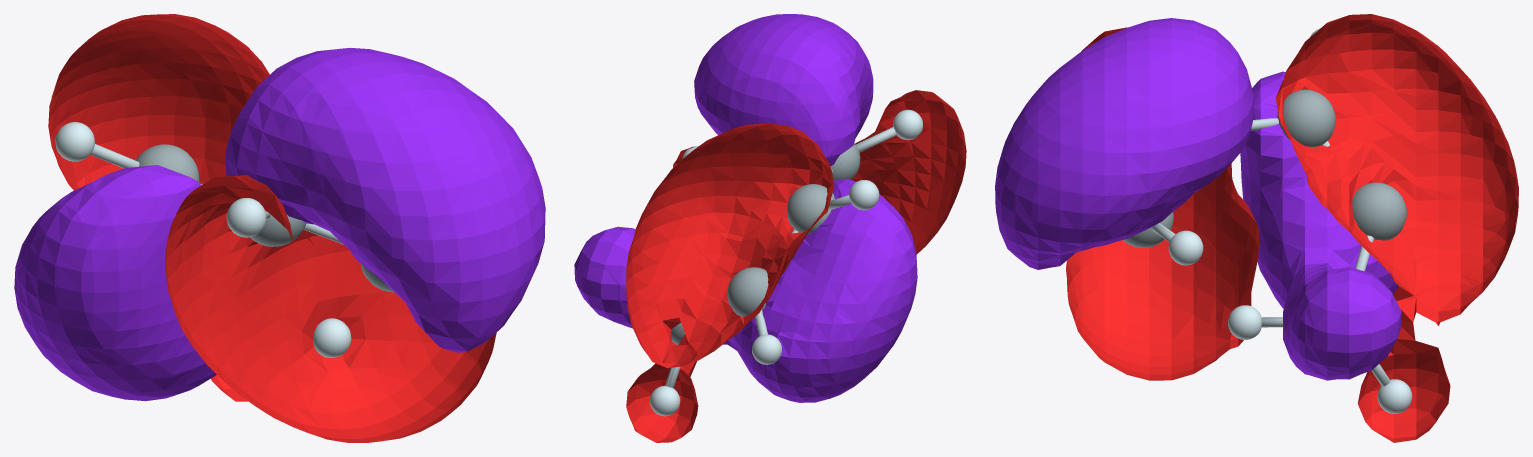
3 views of the same model, side by side, from view 1: azimuth 30°, elevation 25°; view 2: azimuth 150°, elevation 25°; view 3: azimuth 270°, elevation 25° (orthographic). The views are drawn at different scales.
Visible parts, largest first — view 1: Renderer Node; view 2: Renderer Node; view 3: Renderer Node.
Boxes of the visible parts, x1,y1,x2,y2 form: Renderer Node: [14, 14, 545, 442]; Renderer Node: [574, 14, 966, 442]; Renderer Node: [995, 14, 1518, 442].
Size of the model in its own units: 4.72 by 4.97 by 6.
